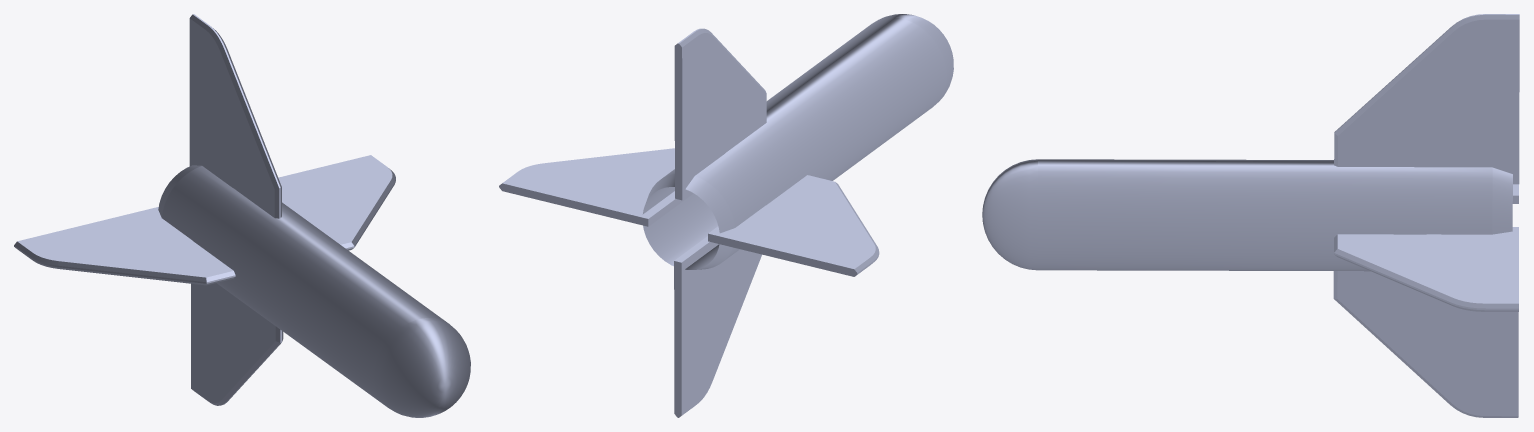
Rendered from Torpedo.fbx.
3 renders of one model, left to right at view 1: azimuth 30°, elevation 25°; view 2: azimuth 150°, elevation 25°; view 3: azimuth 270°, elevation 25°, orthographic. The views are drawn at different scales.
Parts seen in each view (by area): view 1: MeshBody1, MeshBody4, MeshBody5, MeshBody3, MeshBody2; view 2: MeshBody1, MeshBody4, MeshBody5, MeshBody3, MeshBody2; view 3: MeshBody1, MeshBody4, MeshBody3, MeshBody2.
Boxes of the visible parts, x1,y1,x2,y2 form: MeshBody1: (158,165,470,417); MeshBody4: (189,14,281,218); MeshBody5: (14,207,235,285); MeshBody3: (191,283,283,405); MeshBody2: (278,155,395,250); MeshBody1: (642,14,953,269); MeshBody4: (674,28,766,200); MeshBody5: (708,175,879,276); MeshBody3: (674,236,761,417); MeshBody2: (499,148,693,226); MeshBody1: (982,159,1512,271); MeshBody4: (1334,14,1519,184); MeshBody3: (1333,271,1518,417); MeshBody2: (1334,227,1518,311).
Size of the model in its own units: 120 by 120 by 145.
